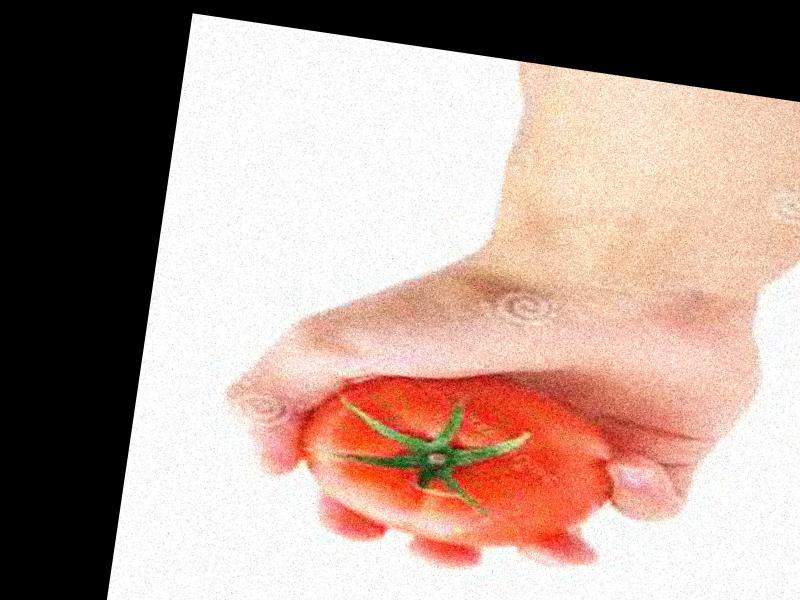Tomato: (294, 356, 626, 565)
